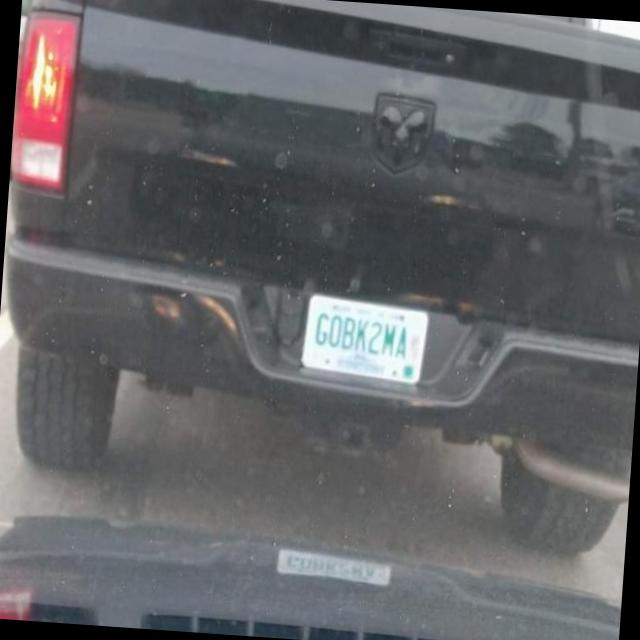LicensePlate: (299, 293, 430, 387)
